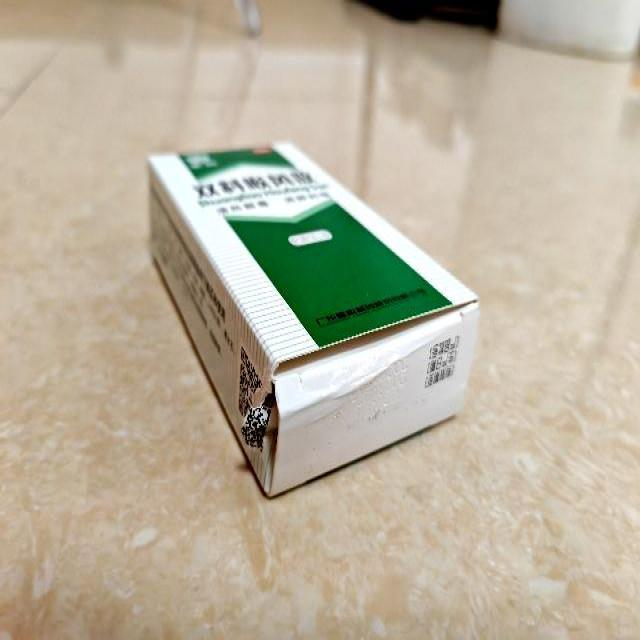box: (146, 140, 478, 494)
